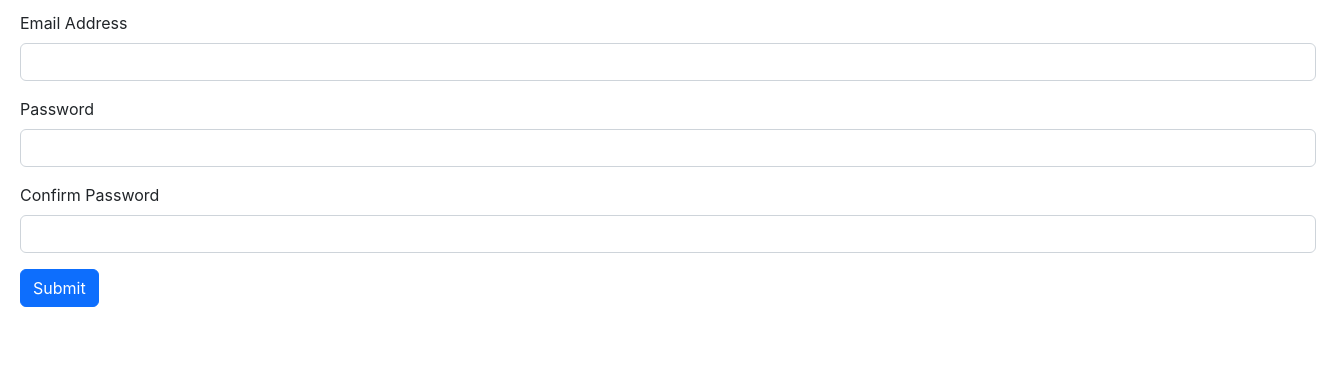
Test: Signup.tsx › should show invalid email error message on invalid email
The image size is (1337, 368).
Type "alvingmail.com" into the field.
click(668, 62); type("alvingmail.com")  # box [20,43,1316,81]
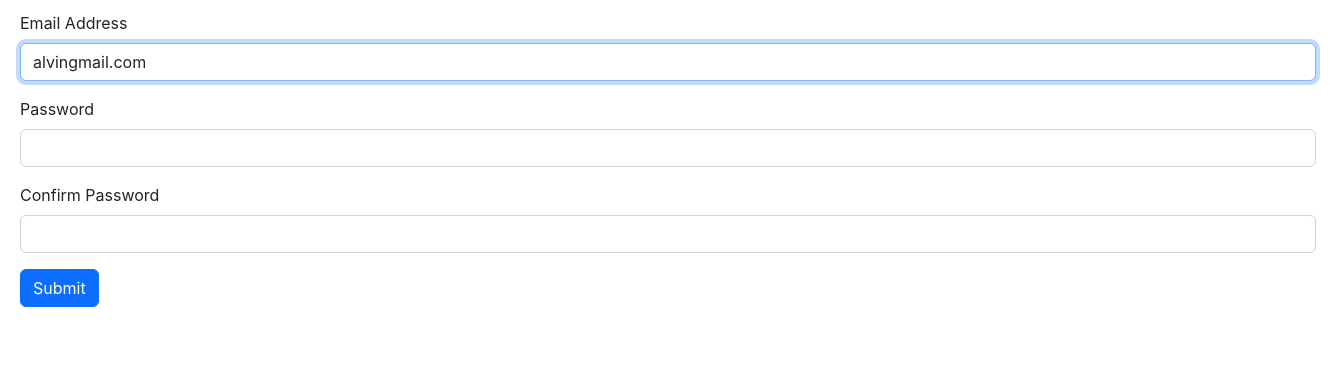
Click the button "Submit".
click(59, 288)  # box [20,269,99,307]
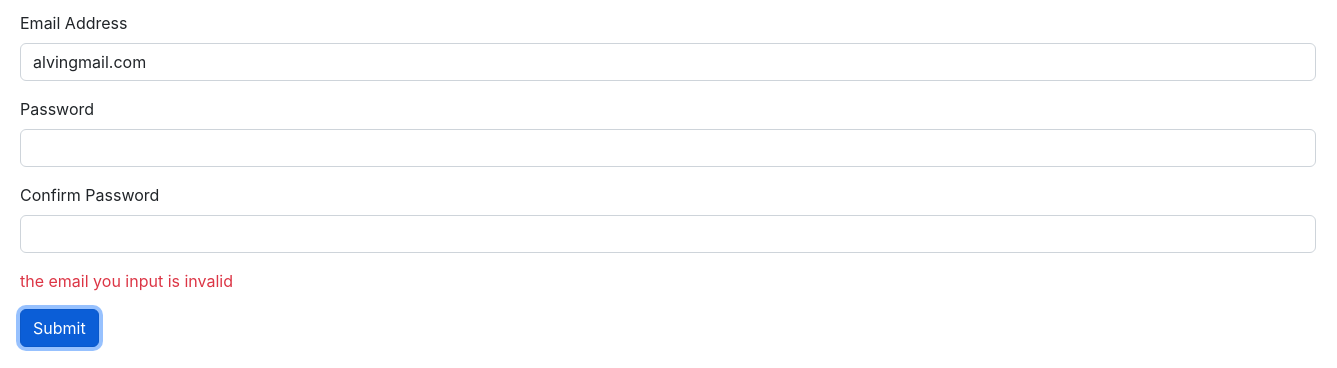
Expected: the text "the email you input is invalid" is shown, [20,271,233,291]
